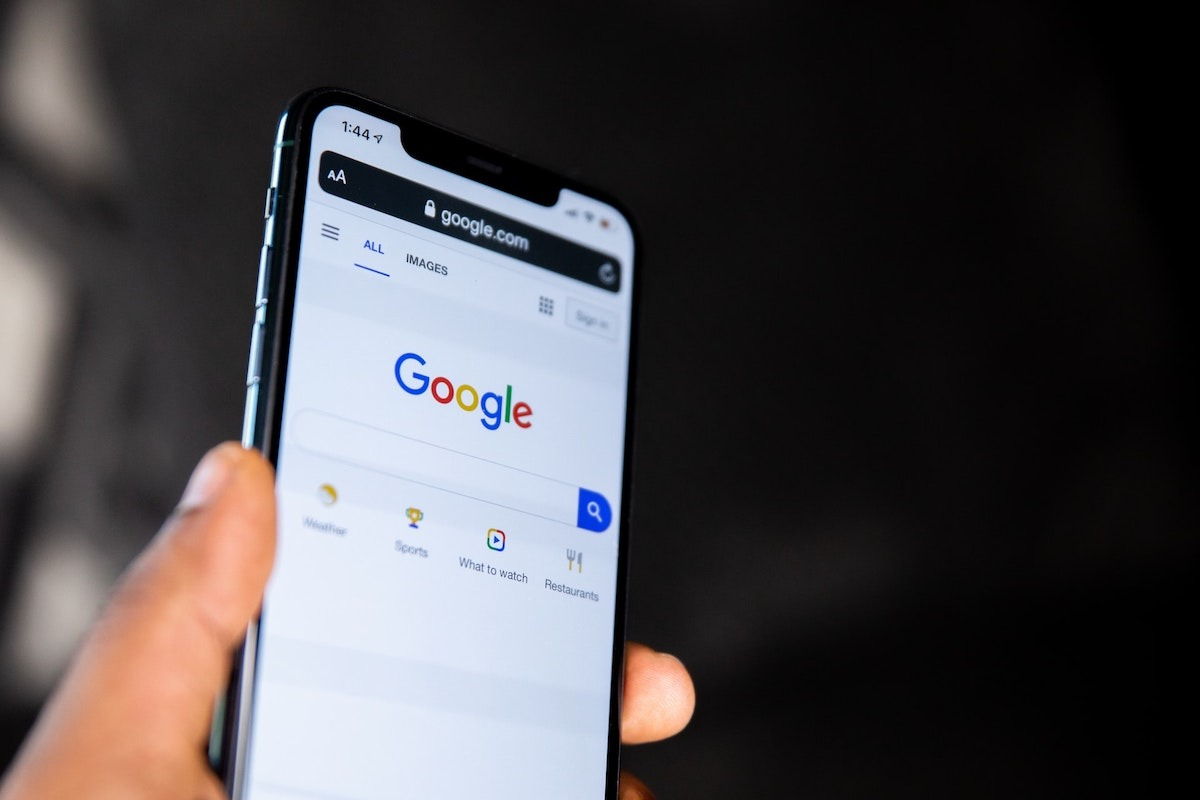Cell Phone: (271, 89, 635, 797)
